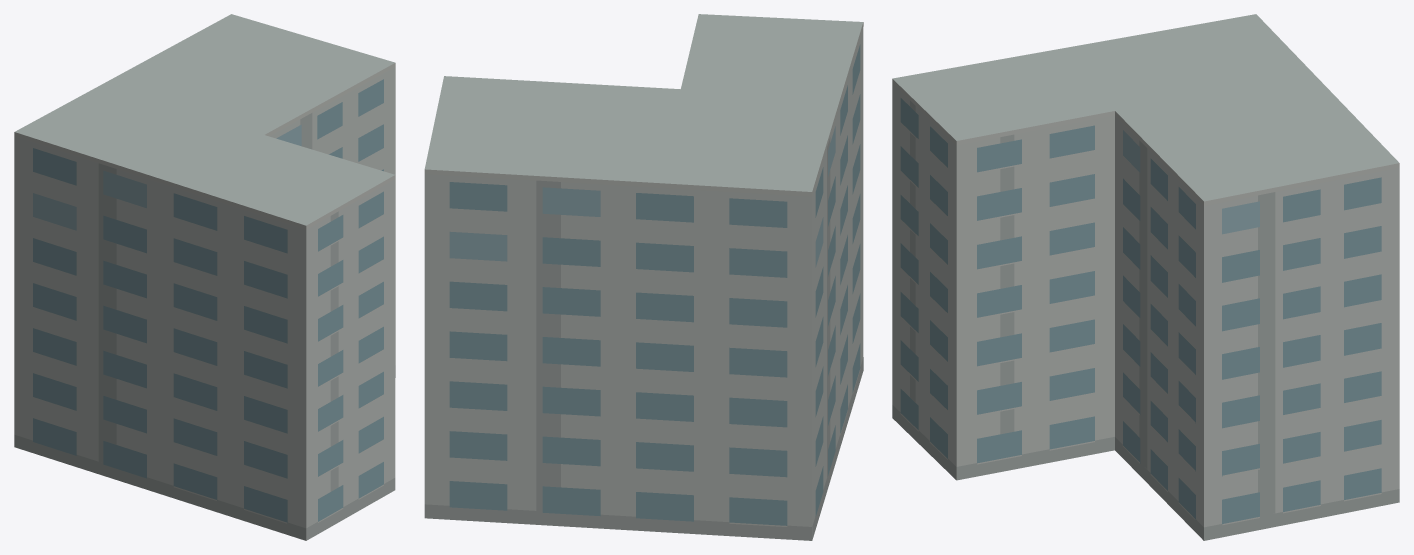
File: survey-upis-32851568.glb
3 renders of one model, left to right at view 1: azimuth 30°, elevation 25°; view 2: azimuth 150°, elevation 25°; view 3: azimuth 270°, elevation 25°, orthographic. The views are drawn at different scales.
Parts seen in each view (by area): view 1: survey-upis-32851568.tmp; view 2: survey-upis-32851568.tmp; view 3: survey-upis-32851568.tmp.
Boxes of the visible parts, bbox=[...] form: survey-upis-32851568.tmp: bbox=[14, 14, 395, 540]; survey-upis-32851568.tmp: bbox=[424, 14, 863, 540]; survey-upis-32851568.tmp: bbox=[892, 14, 1399, 540].
Size of the model in its own units: 21.93 by 18.5 by 25.07.
